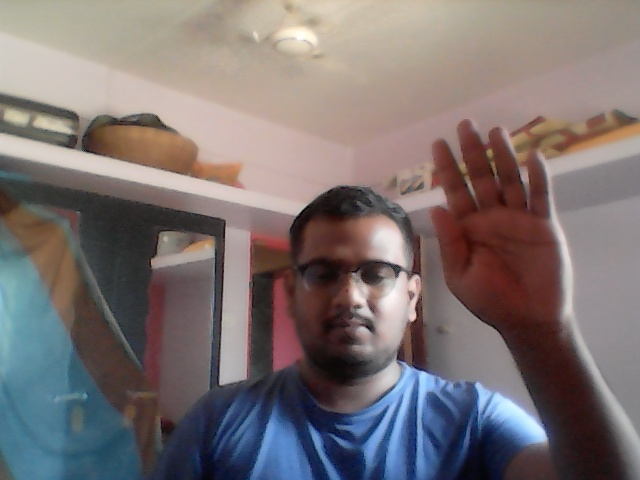Hello: (429, 114, 577, 331)
